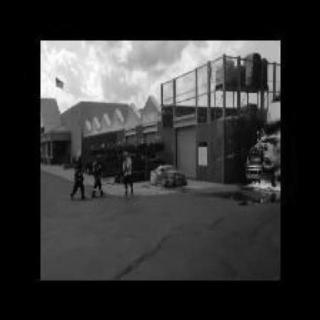other: (81, 99, 158, 137)
